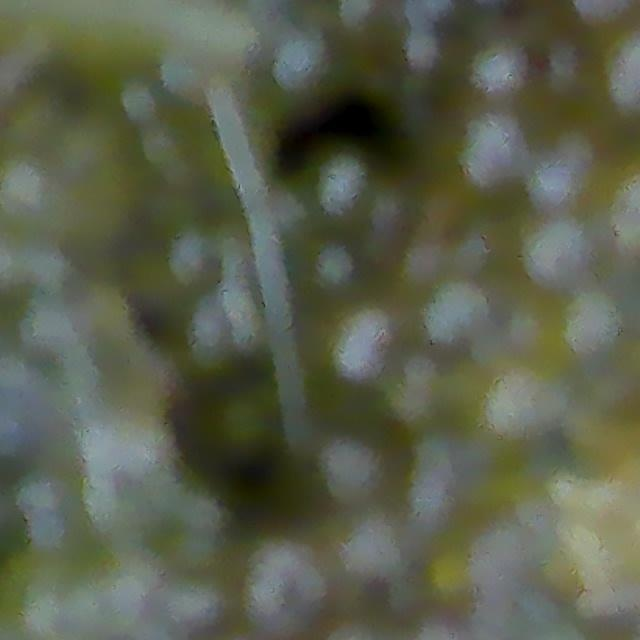SeaGrape: (239, 547, 339, 634), (328, 508, 410, 589), (455, 109, 528, 188), (520, 214, 593, 288), (315, 432, 387, 507), (556, 286, 625, 360), (423, 277, 490, 343), (270, 25, 331, 94)
